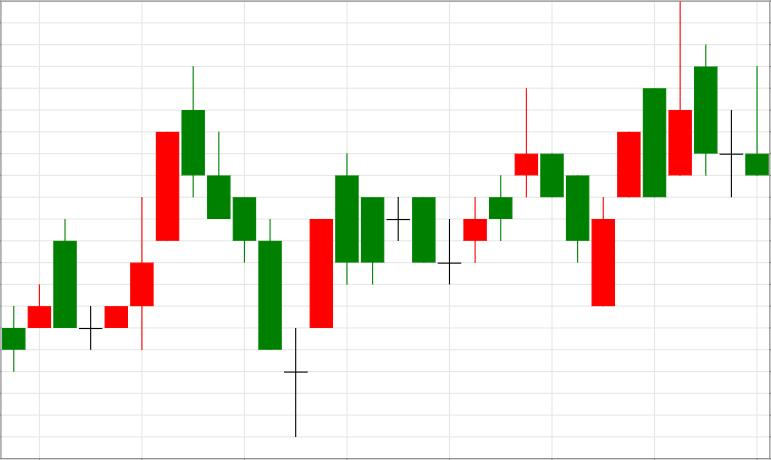morning_star_rise: (182, 66, 332, 438)
